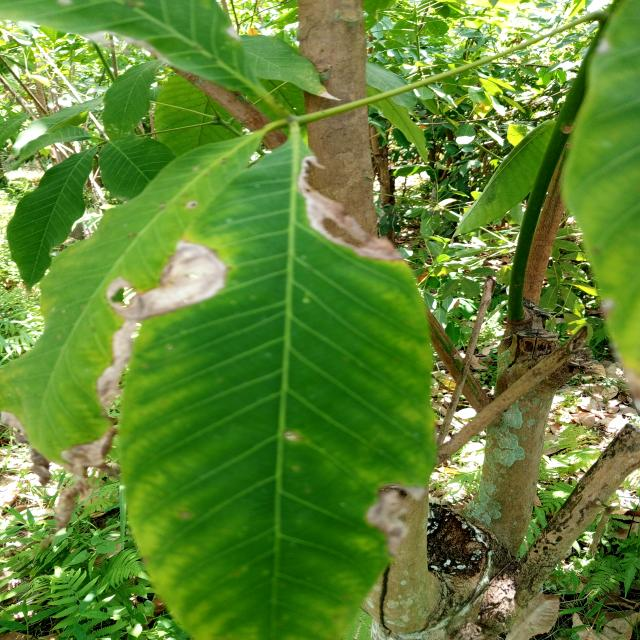Leaf-Blight: (298, 155, 401, 262), (138, 238, 230, 324), (96, 274, 141, 409), (364, 482, 424, 558)
